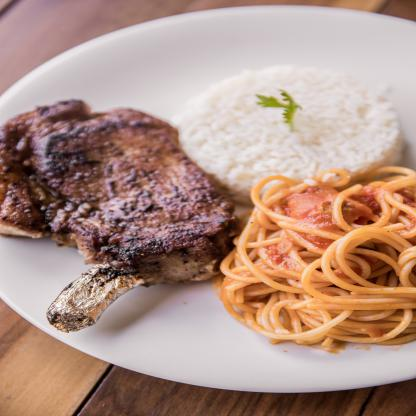Carne: (6, 102, 219, 266)
